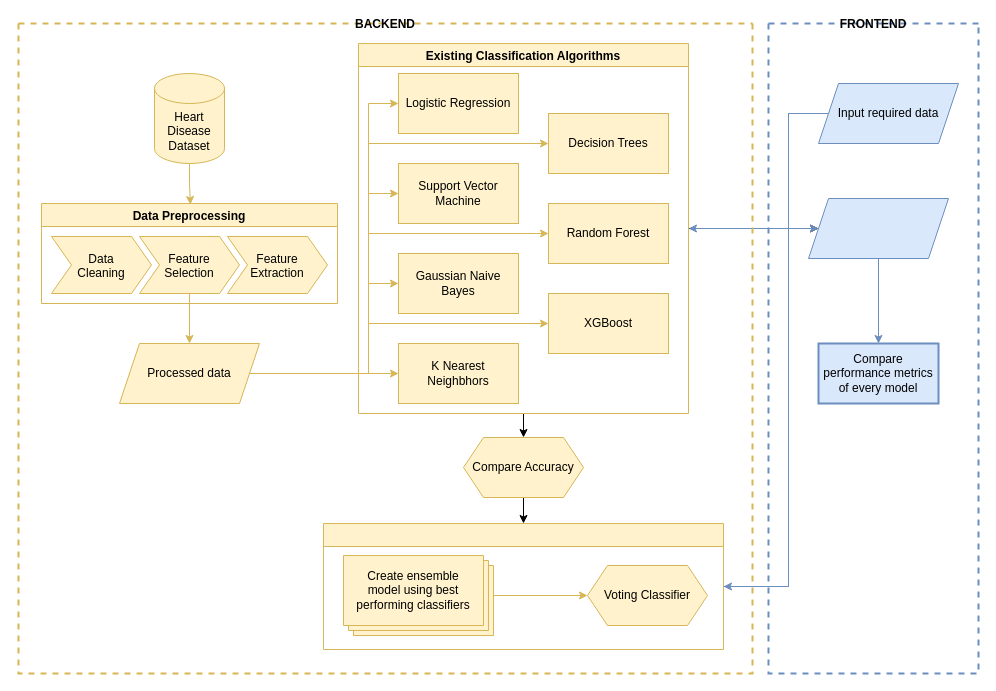
Some shapes in this 996 by 691 pixel diagram are drawn without their labels. Here are the shapes that lost their labels. From the top down, the centre of each, then its label:
the point at 878,228: Output results of each model
the point at 523,586: Proposed Novel Algorithm
